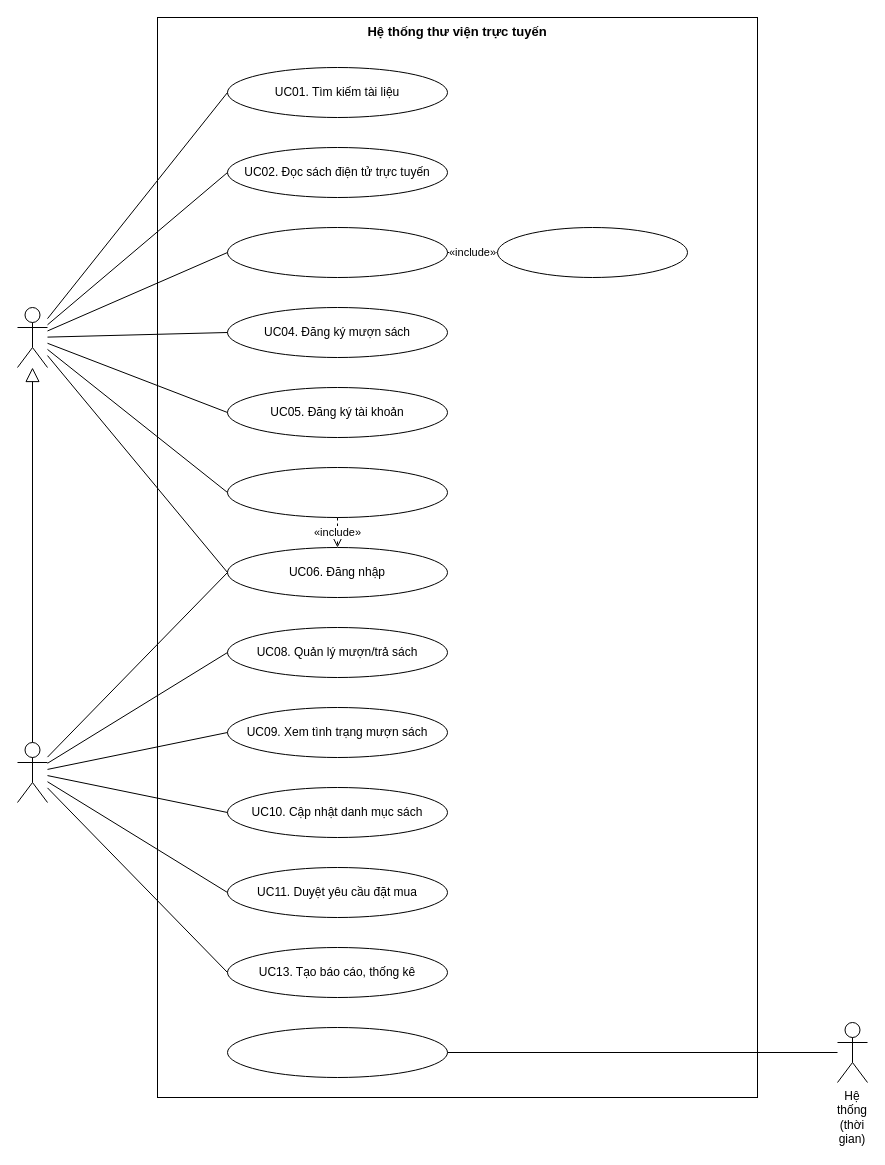
Some shapes in this 885 by 1165 pixel diagram are drawn without their labels. The centre of each missing label's shape, as x and y in pixels:
"Nhập mã thẻ thư viện" goes at (592,252).
"Thủ thư" goes at (32,772).
"UC03. Tải tài liệu điện tử" goes at (337,252).
"UC07. Đặt mua tài liệu" goes at (337,492).
"UC12. Gửi email nhắc trả sách" goes at (337,1052).
"Độc giả" goes at (32,337).
